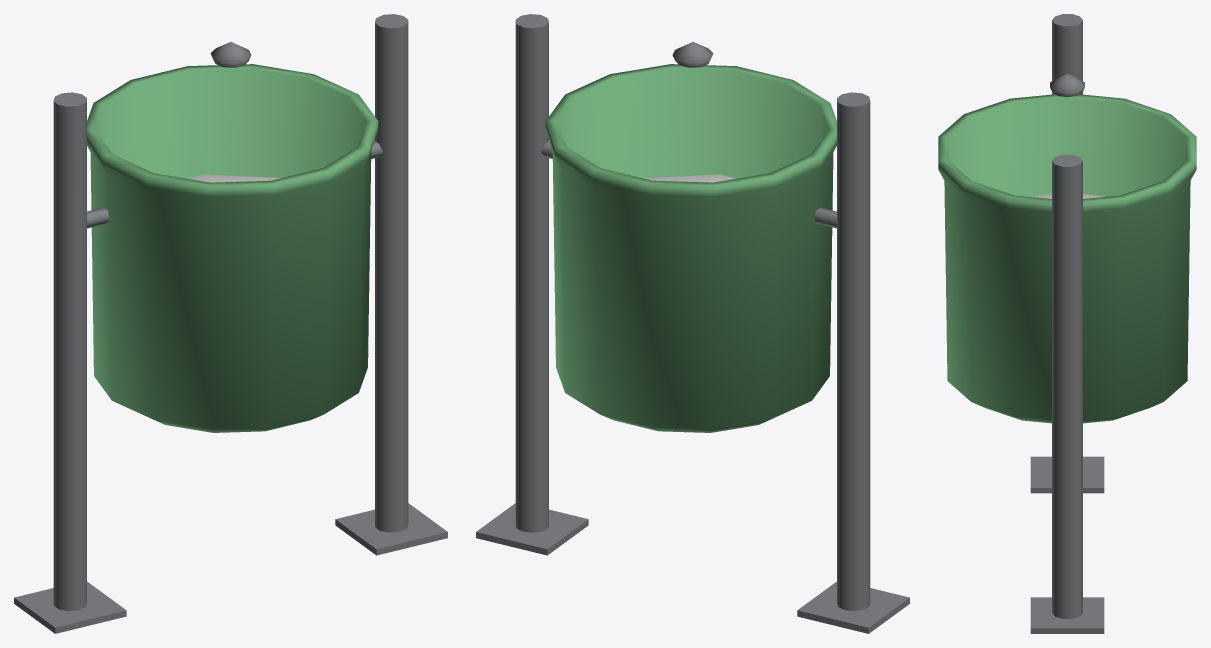
The model's file is urn_tilting.glb.
3 views of the same model, side by side, from view 1: azimuth 30°, elevation 25°; view 2: azimuth 150°, elevation 25°; view 3: azimuth 270°, elevation 25° (orthographic). The views are drawn at different scales.
Parts seen in each view (by area): view 1: urn_tilting; view 2: urn_tilting; view 3: urn_tilting.
Boxes of the visible parts, bbox=[...] form: urn_tilting: bbox=[14, 14, 447, 633]; urn_tilting: bbox=[476, 14, 909, 633]; urn_tilting: bbox=[938, 14, 1196, 633].
Bounding box in the file's own units: 0.66 × 0.85 × 0.4192.
